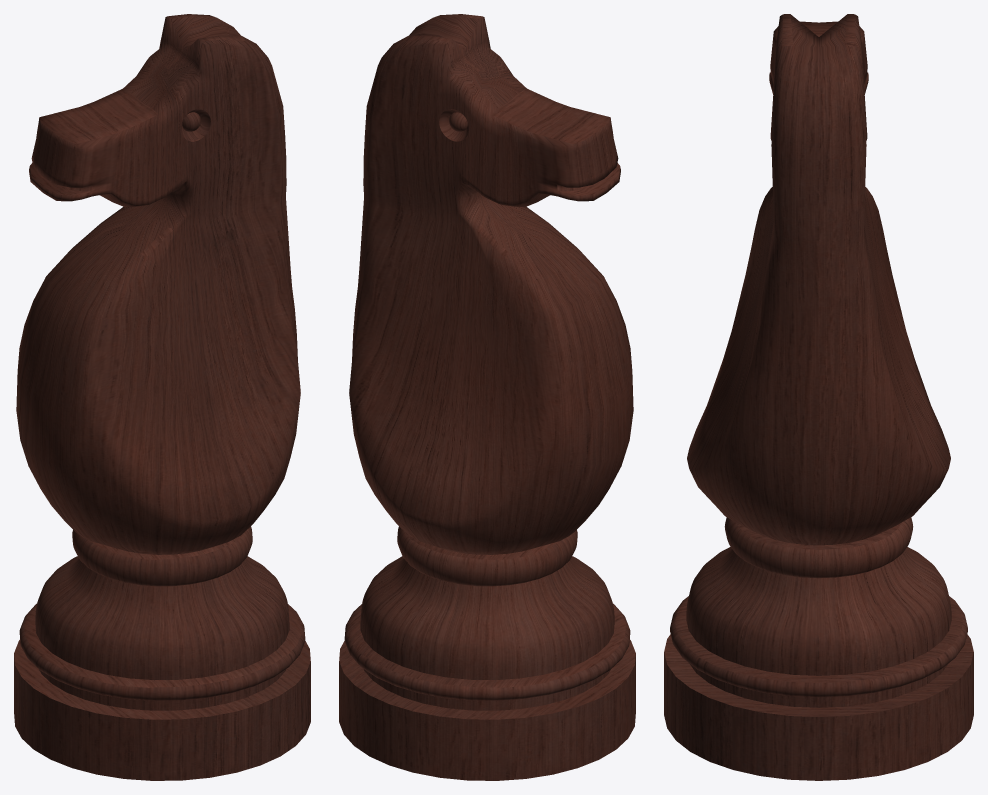
The model's file is black-knight.glb.
3 renders of one model, left to right at view 1: azimuth 30°, elevation 25°; view 2: azimuth 150°, elevation 25°; view 3: azimuth 270°, elevation 25°, orthographic. The views are drawn at different scales.
Visible parts, largest first — view 1: ScacchiBianchi_Cavallo.004_Material #50_0; view 2: ScacchiBianchi_Cavallo.004_Material #50_0; view 3: ScacchiBianchi_Cavallo.004_Material #50_0.
Boxes of the visible parts, x1,y1,x2,y2 form: ScacchiBianchi_Cavallo.004_Material #50_0: (14, 14, 310, 780); ScacchiBianchi_Cavallo.004_Material #50_0: (339, 14, 635, 780); ScacchiBianchi_Cavallo.004_Material #50_0: (664, 14, 973, 780).
Bounding box in the file's own units: 2.75 × 6.98 × 2.75.
1 material, 1 textured.
